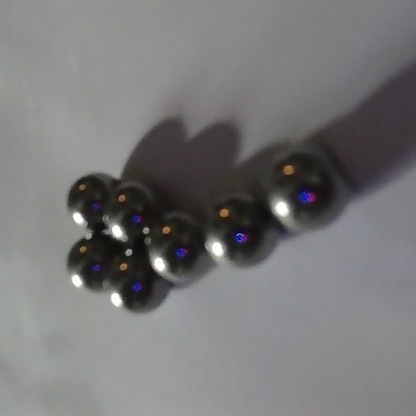ironball: (257, 143, 351, 233), (197, 192, 287, 269), (145, 213, 220, 284), (58, 231, 132, 293), (103, 183, 161, 249), (108, 266, 180, 317), (61, 174, 118, 230)
